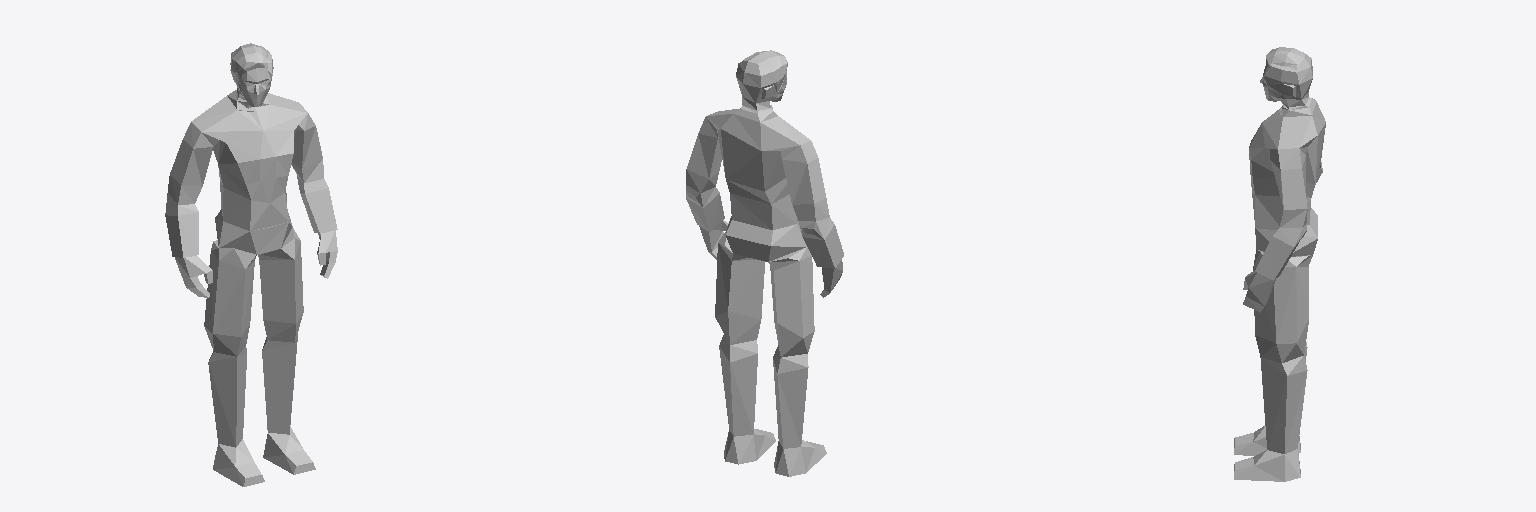
File: Manuel87.obj
3 views of the same model, side by side, from view 1: azimuth 30°, elevation 25°; view 2: azimuth 150°, elevation 25°; view 3: azimuth 270°, elevation 25° (orthographic).
Visible parts, largest first — view 1: leon; view 2: leon; view 3: leon.
Part boxes in pixels (left/top/right/bottom): leon: left=165, top=43, right=337, bottom=486; leon: left=686, top=50, right=843, bottom=476; leon: left=1234, top=47, right=1325, bottom=481.
Bounding box in the file's own units: 4.67 × 12.19 × 2.48.